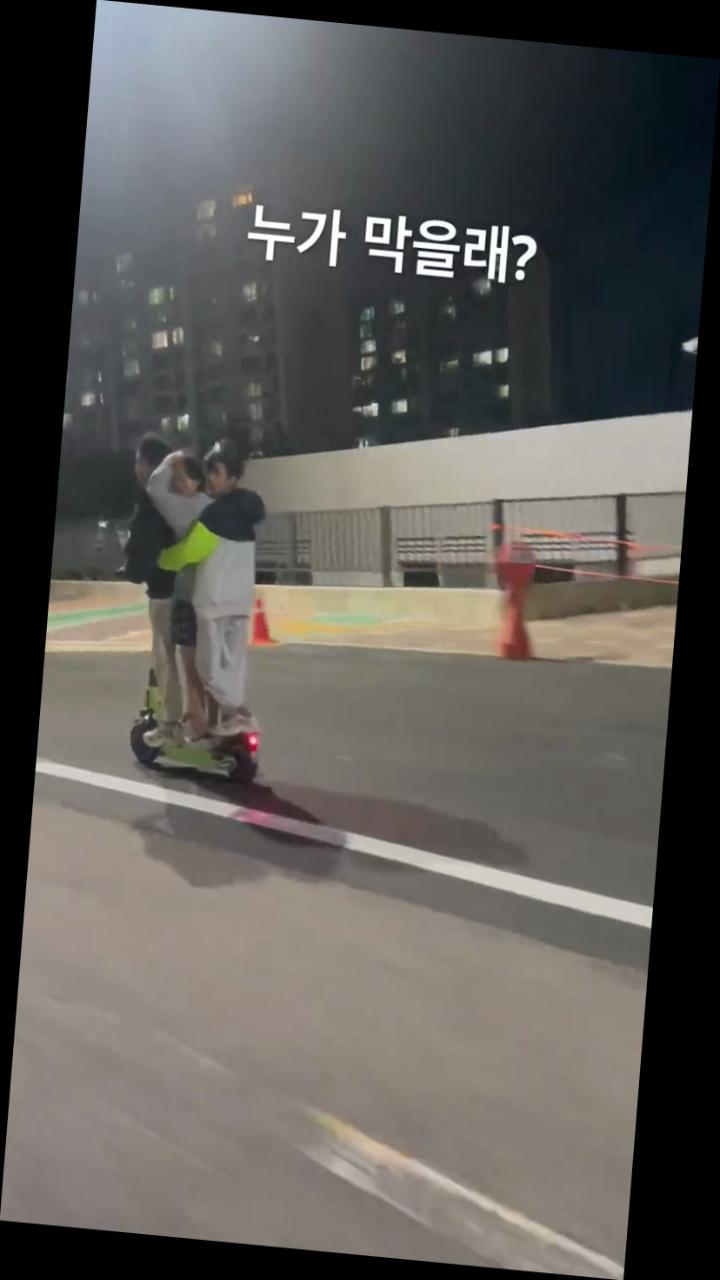multiple: (100, 428, 285, 782)
